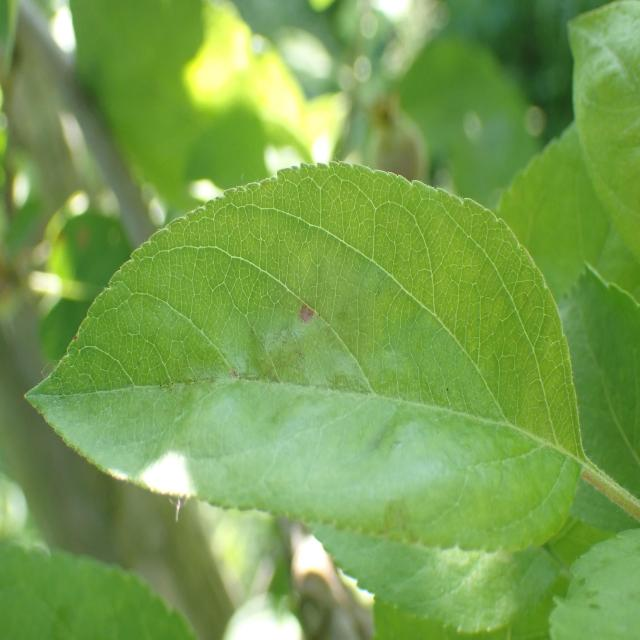scab: (119, 279, 556, 466)
